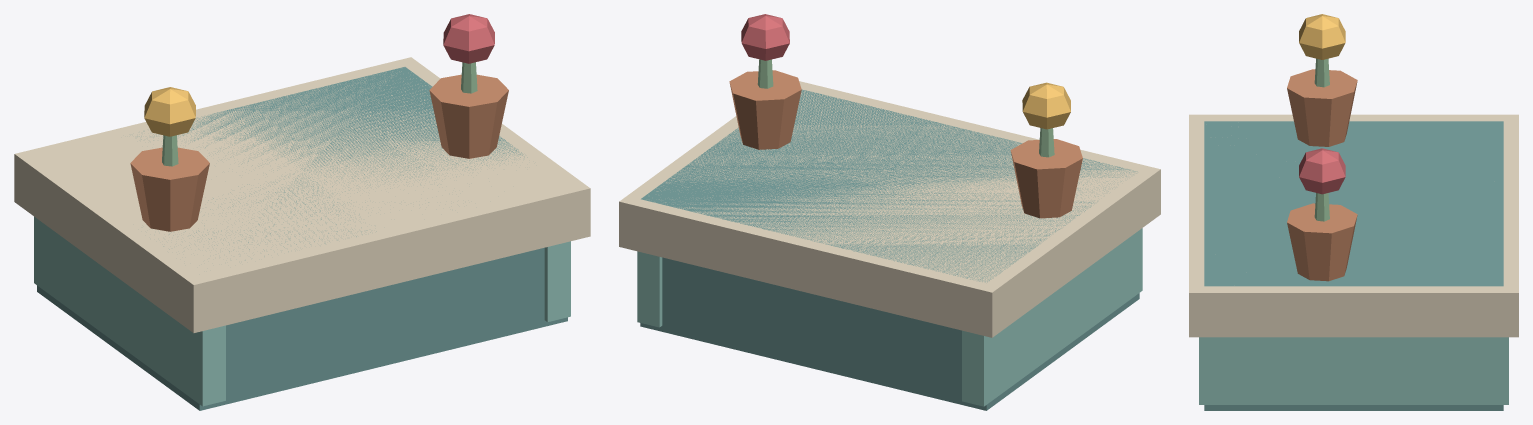
The model's file is FloristLowStep.glb.
3 renders of one model, left to right at view 1: azimuth 30°, elevation 25°; view 2: azimuth 150°, elevation 25°; view 3: azimuth 270°, elevation 25°, orthographic. The views are drawn at different scales.
Parts seen in each view (by area): view 1: FloristLowStep; view 2: FloristLowStep; view 3: FloristLowStep.
Boxes of the visible parts, x1,y1,x2,y2 form: FloristLowStep: [14, 14, 590, 410]; FloristLowStep: [619, 14, 1160, 410]; FloristLowStep: [1189, 14, 1518, 410].
Bounding box in the file's own units: 1.38 × 0.886 × 1.08.
